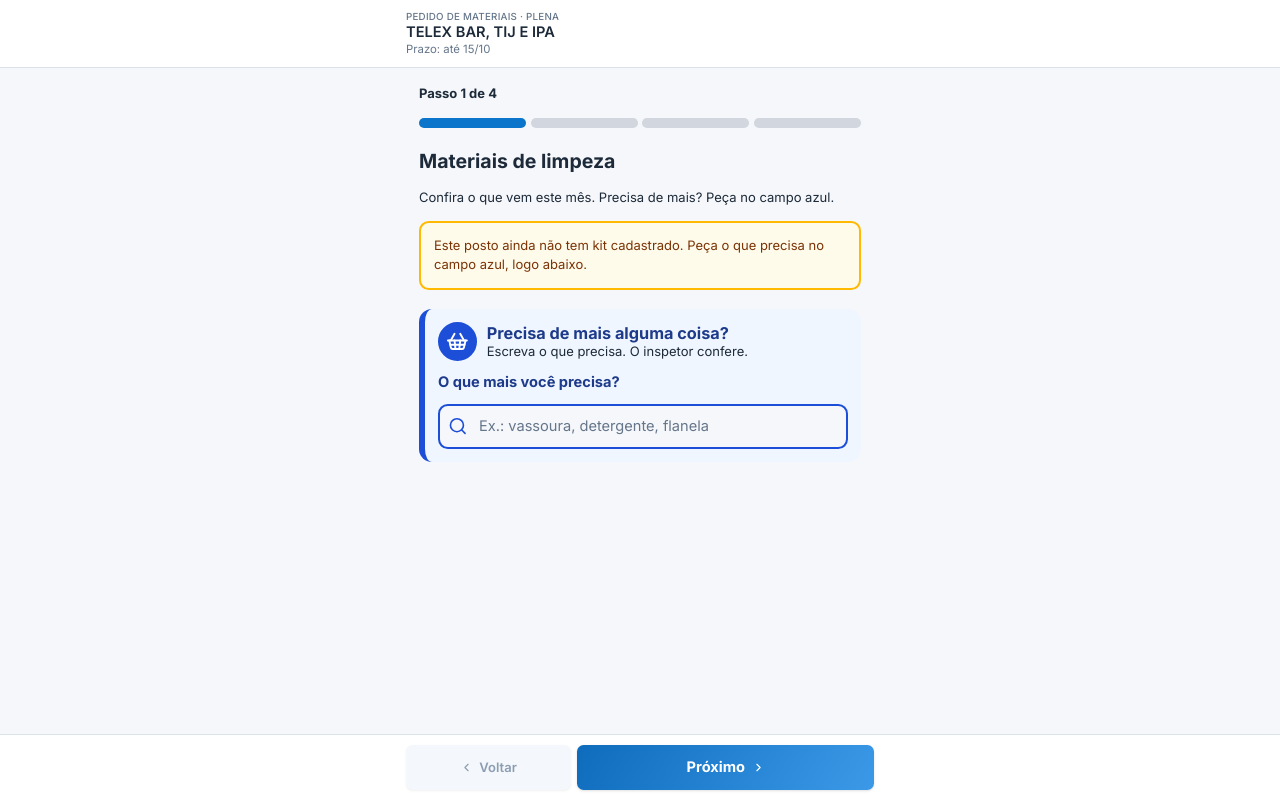
Test: PedidoLiderPage (tela pública do líder) › envio vazio (17/10/2026): mostra a observação amigável, não bloqueia e registra a resposta
expect the heading "TELEX BAR, TIJ E IPA" is shown: met, box [406,23,555,41]
Step 1. Click the button named "Passo 4: Revisar e enviar" → (808, 123), box [754,110,861,136]
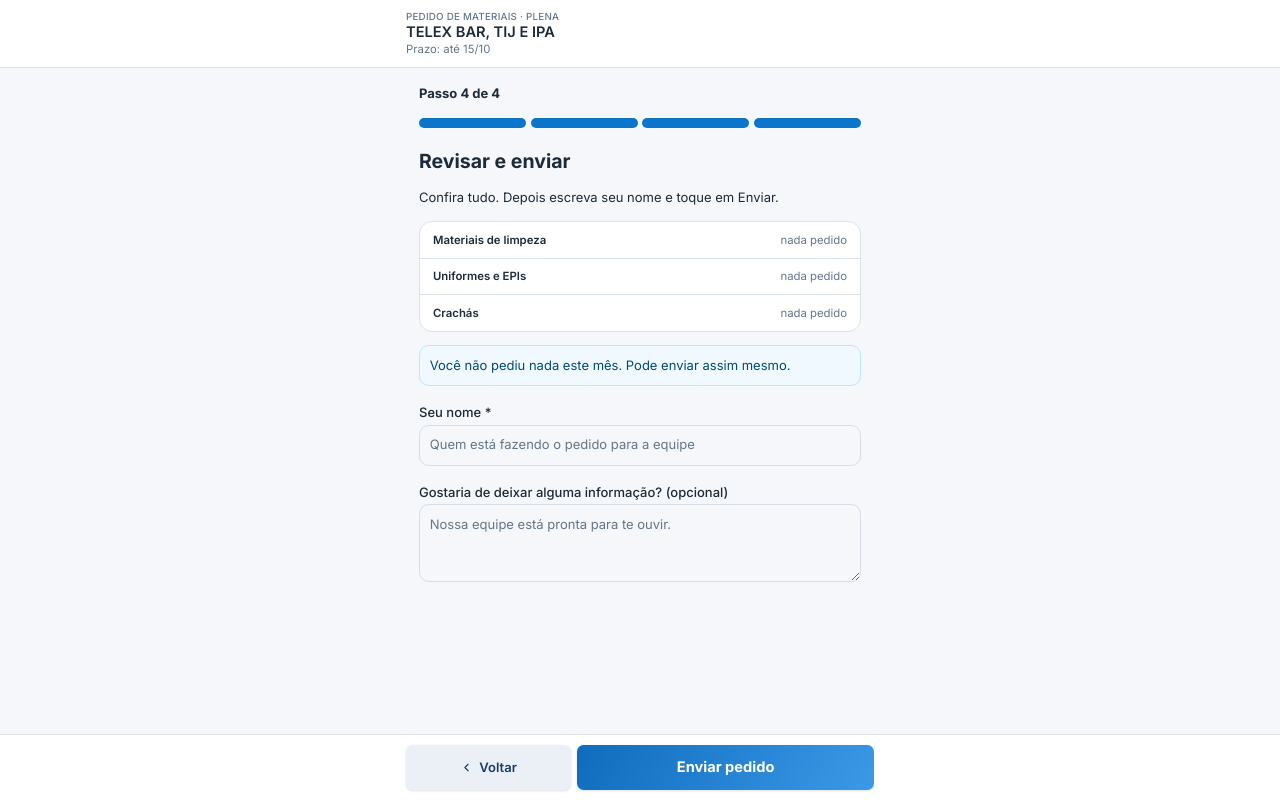
expect the text "Você não pediu nada este mês. Pode enviar assim mesmo." is shown: met, box [419,345,861,386]
Step 2. Type "Ana Souza" into the field labelled "Seu nome *" → (640, 445), box [419,424,861,466]
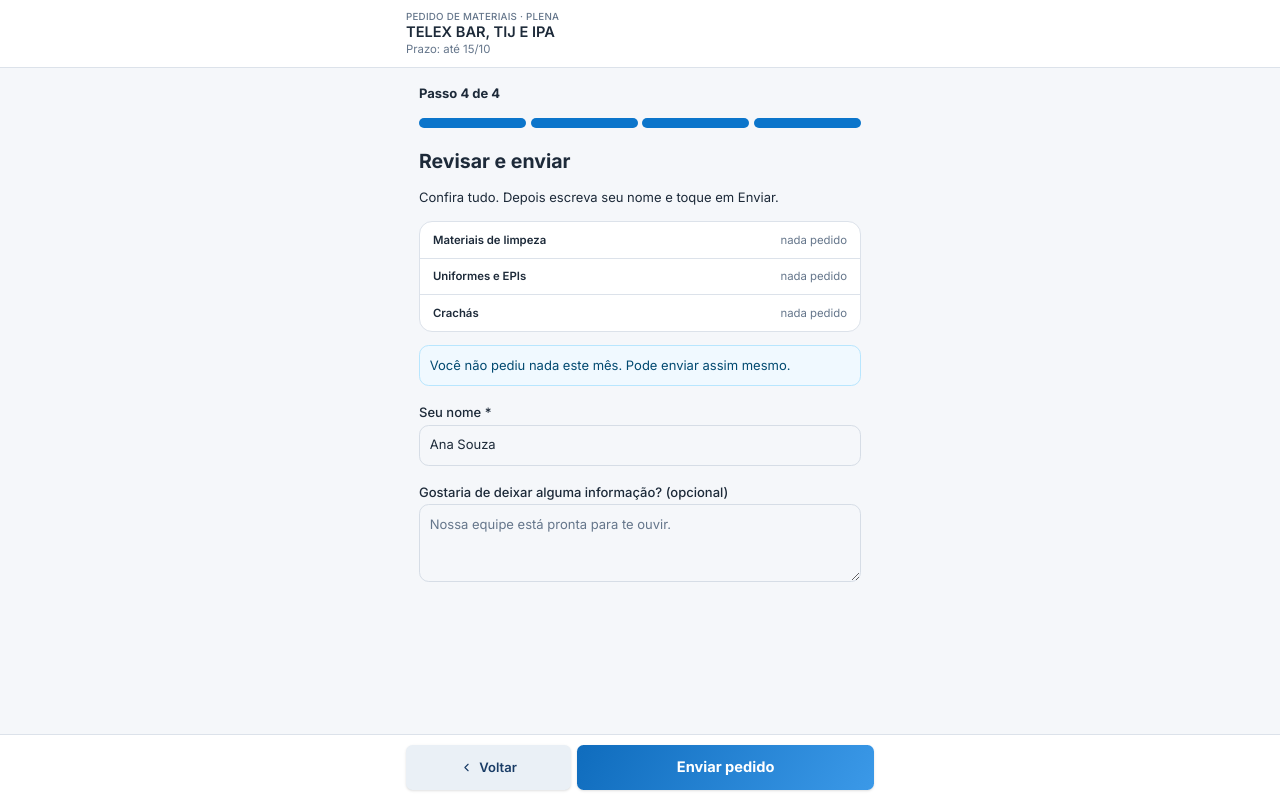
Step 3. Click the button "Enviar pedido" → (726, 768), box [577,745,874,790]
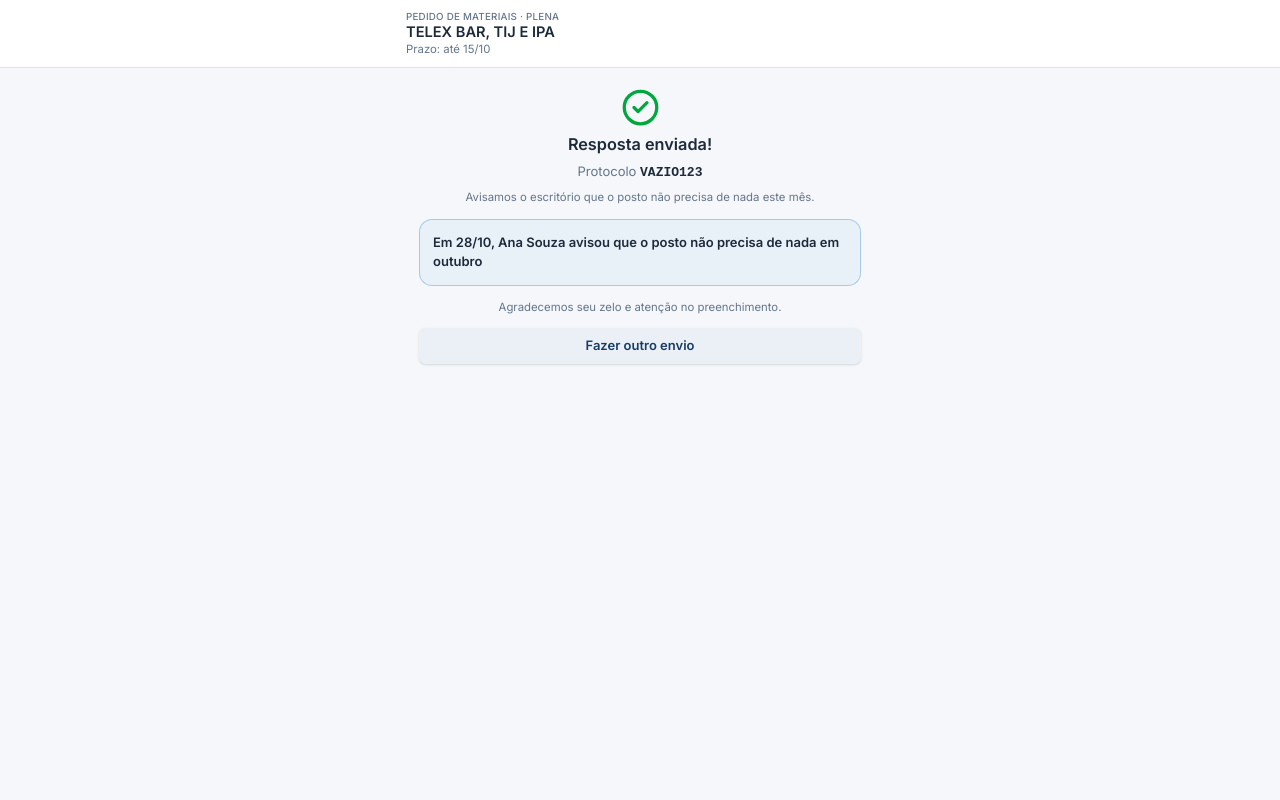
expect the heading "Resposta enviada!" is shown: met, box [568,134,712,154]
expect the text "Avisamos o escritório que o posto não precisa de nada este mês." is shown: met, box [466,190,815,204]
